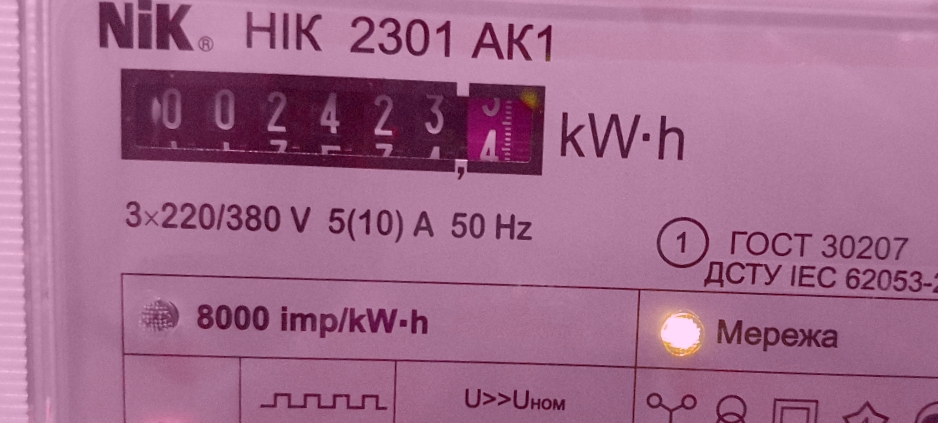0: (157, 82, 186, 132), (211, 85, 238, 131)
2: (262, 86, 290, 134), (370, 91, 396, 138)
3: (421, 90, 447, 136), (480, 93, 502, 117)
4: (317, 89, 342, 135), (476, 124, 502, 163)
screen: (105, 52, 560, 193)
